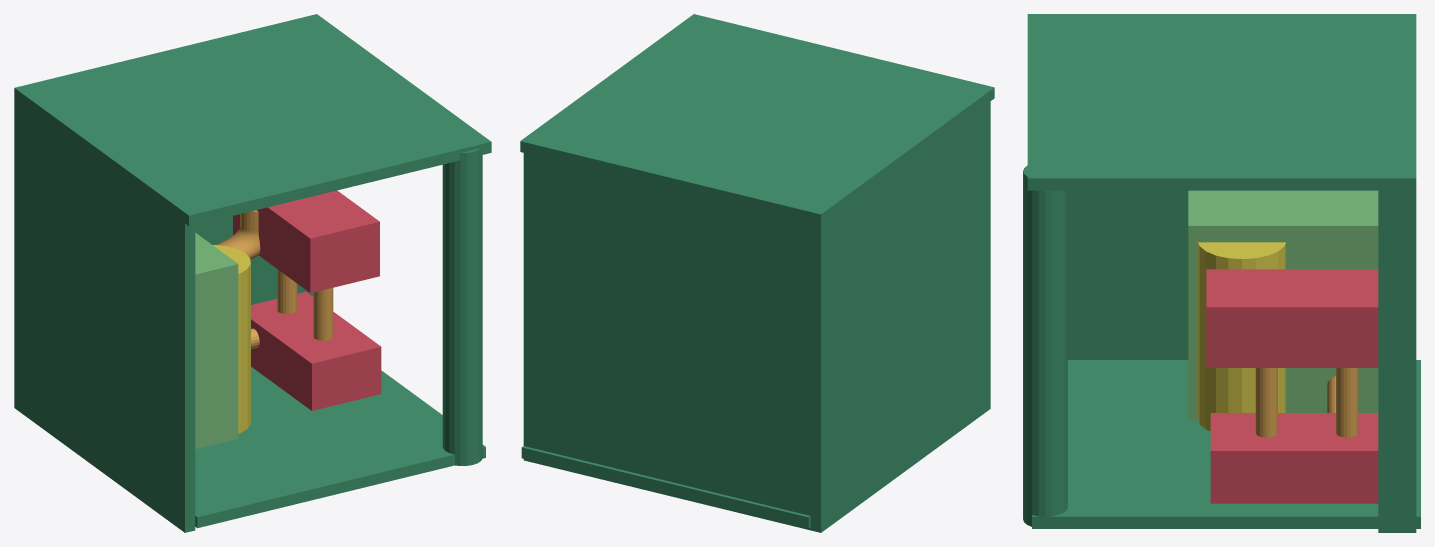
File: seamTransformer.glb
The picture shows the model from 3 angles, left to right: view 1: azimuth 30°, elevation 25°; view 2: azimuth 150°, elevation 25°; view 3: azimuth 270°, elevation 25°; orthographic projection. The views are drawn at different scales.
Visible parts, largest first — view 1: Mesh_Mesh_head_geo.001_lambert2SG.001; view 2: Mesh_Mesh_head_geo.001_lambert2SG.001; view 3: Mesh_Mesh_head_geo.001_lambert2SG.001.
Boxes of the visible parts, <box> form: Mesh_Mesh_head_geo.001_lambert2SG.001: <box>14,14,491,532</box>; Mesh_Mesh_head_geo.001_lambert2SG.001: <box>520,14,994,532</box>; Mesh_Mesh_head_geo.001_lambert2SG.001: <box>1023,14,1420,532</box>.
Bounding box in the file's own units: 87 × 88 × 89.
